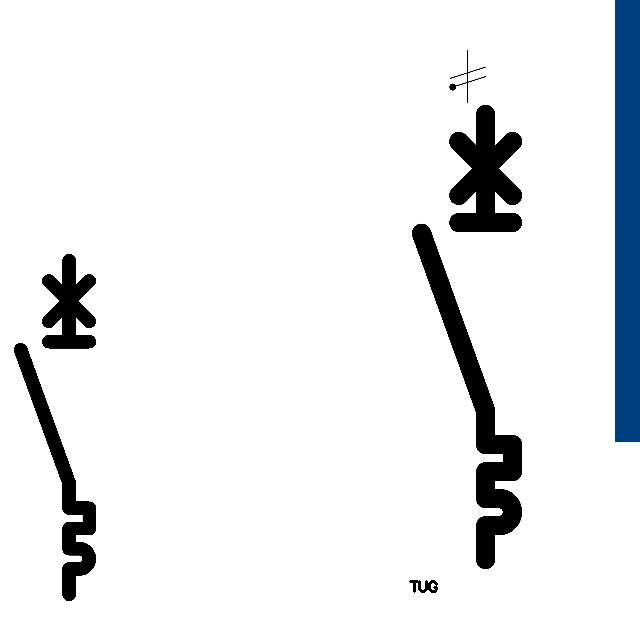interruptor_termomagnetico: (410, 102, 524, 570), (12, 252, 98, 603)
